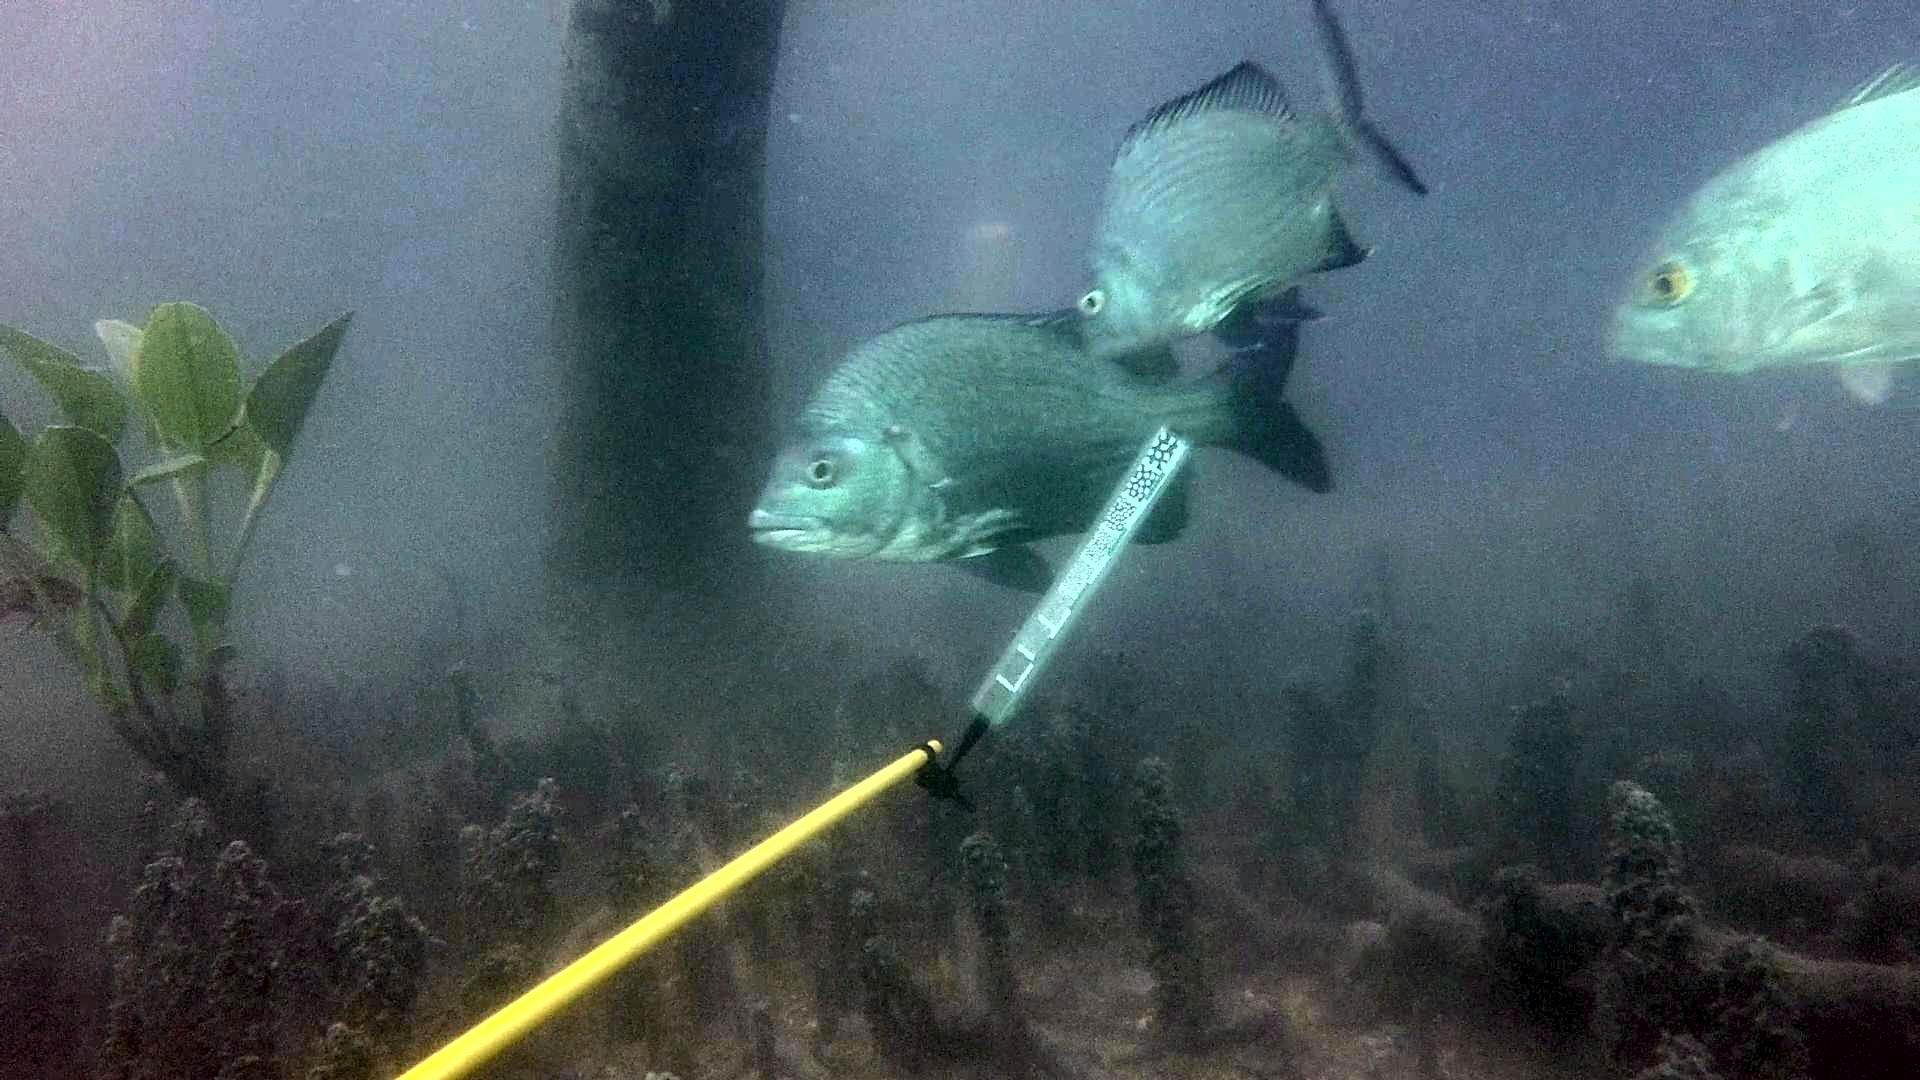acanthopagrus palmaris: (725, 287, 1349, 600), (1055, 3, 1441, 361)
caranx: (1595, 53, 1920, 415)
